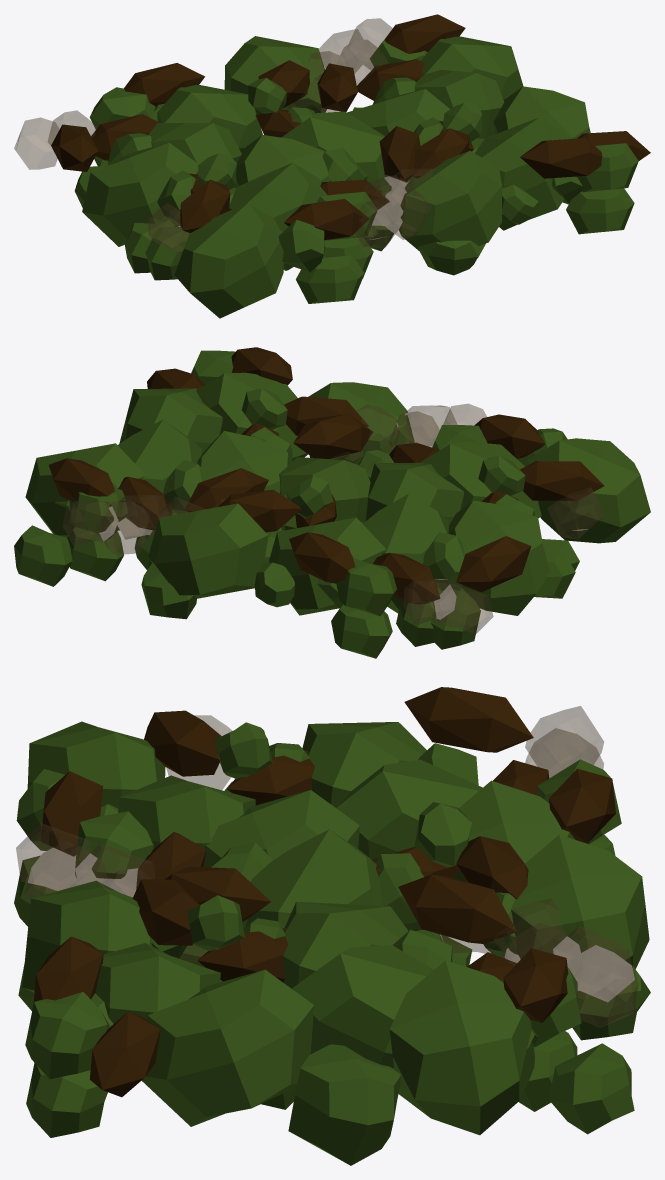
Rendered from piedras.grupo_001.glb.
The picture shows the model from 3 angles, top to bottom: view 1: azimuth 30°, elevation 25°; view 2: azimuth 150°, elevation 25°; view 3: azimuth 270°, elevation 25°; orthographic projection. The views are drawn at different scales.
Parts seen in each view (by area): view 1: piedras.grupo_001; view 2: piedras.grupo_001; view 3: piedras.grupo_001.
Boxes of the visible parts, x1=… form: piedras.grupo_001: x1=14, y1=14, x2=650, y2=318; piedras.grupo_001: x1=14, y1=347, x2=650, y2=658; piedras.grupo_001: x1=14, y1=687, x2=650, y2=1165.
Bounding box in the file's own units: 3.86 × 0.9199 × 2.96.
